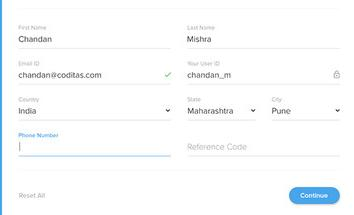button: (287, 184, 341, 206)
field: (182, 64, 344, 86), (15, 65, 176, 86), (15, 102, 174, 123), (15, 29, 173, 49), (184, 29, 340, 49), (183, 101, 262, 122), (268, 103, 345, 122)
field_line: (17, 138, 172, 159)
field_line_with_label: (15, 131, 174, 161)
field_with_label: (181, 59, 347, 88), (13, 23, 175, 52), (12, 60, 179, 88), (183, 24, 343, 52), (13, 98, 175, 124), (182, 96, 263, 123), (266, 97, 347, 124)
